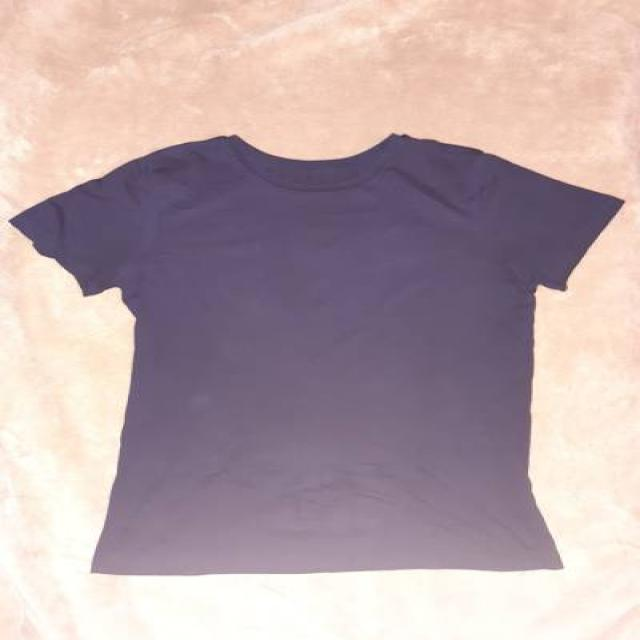shirt: (5, 133, 628, 578)
